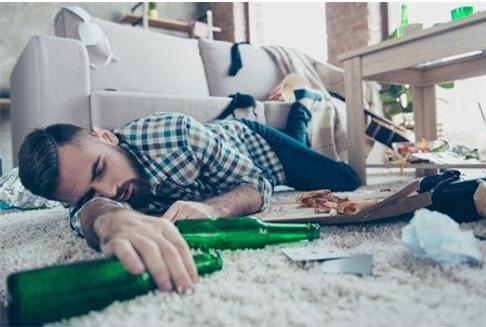Drunk: (53, 143, 138, 204)
